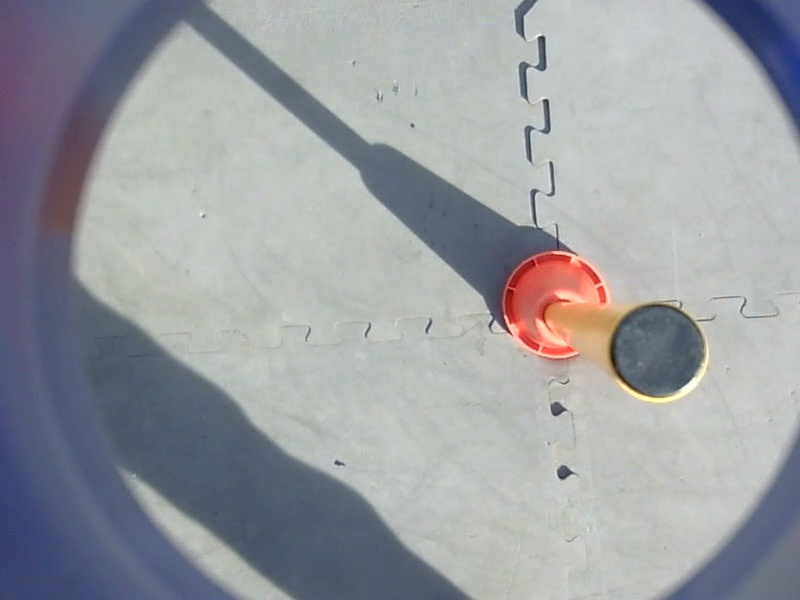tip: (602, 296, 718, 408)
